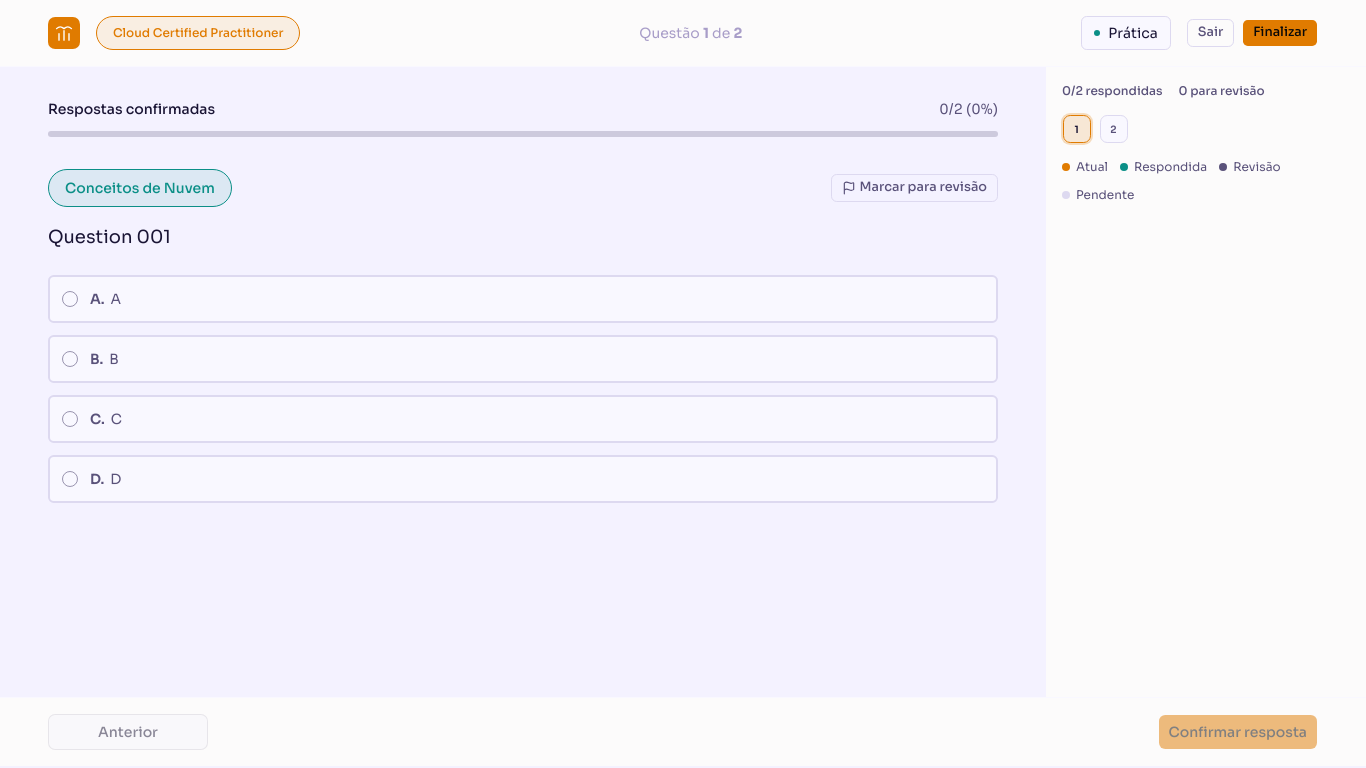
Scenario: QuizLayout › navega pelo mapa e marca questão para revisão
Expected: the element that starts with "respondidas" is shown, [1046, 67, 1365, 697]
Click the button named "Questão 2" at coordinates (1114, 129), box [1100, 115, 1128, 143]
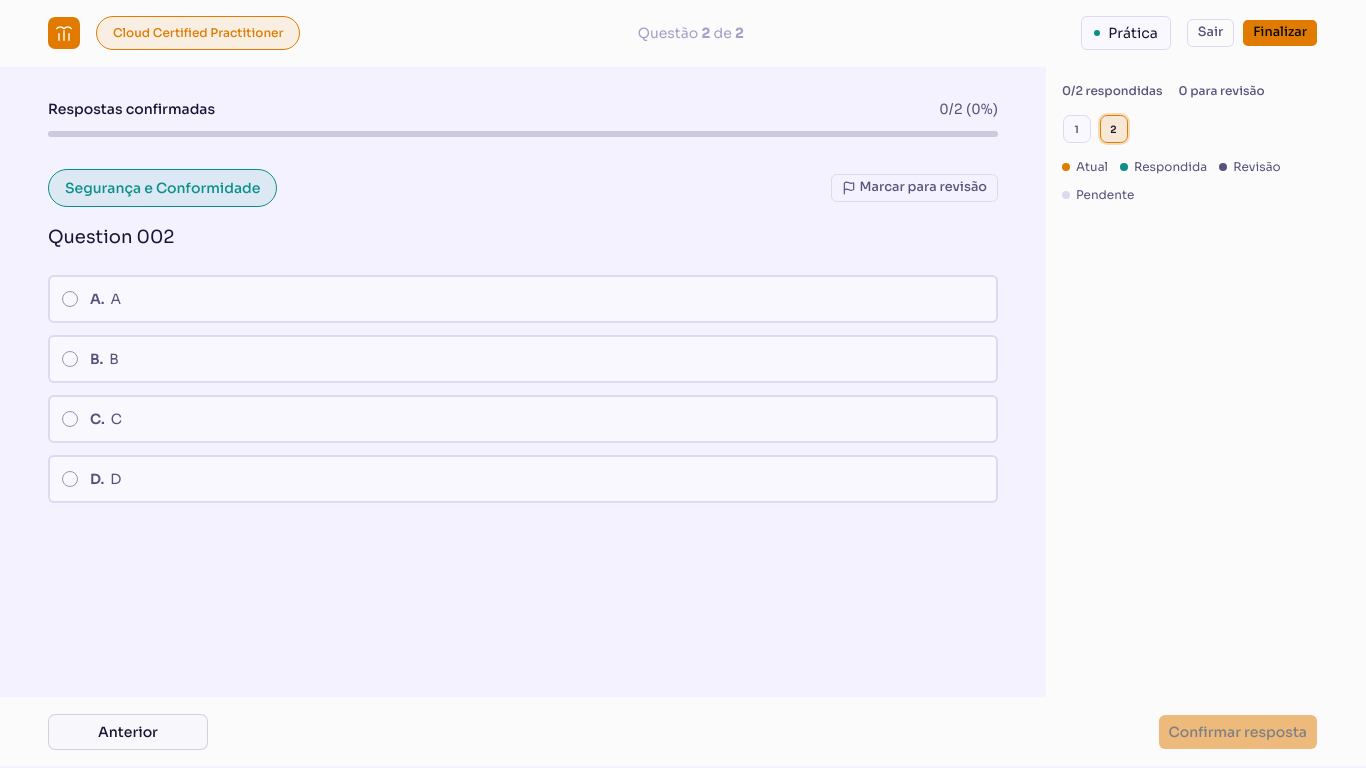
Click the button "Marcar para revisão" at coordinates (914, 188), box [831, 174, 998, 202]
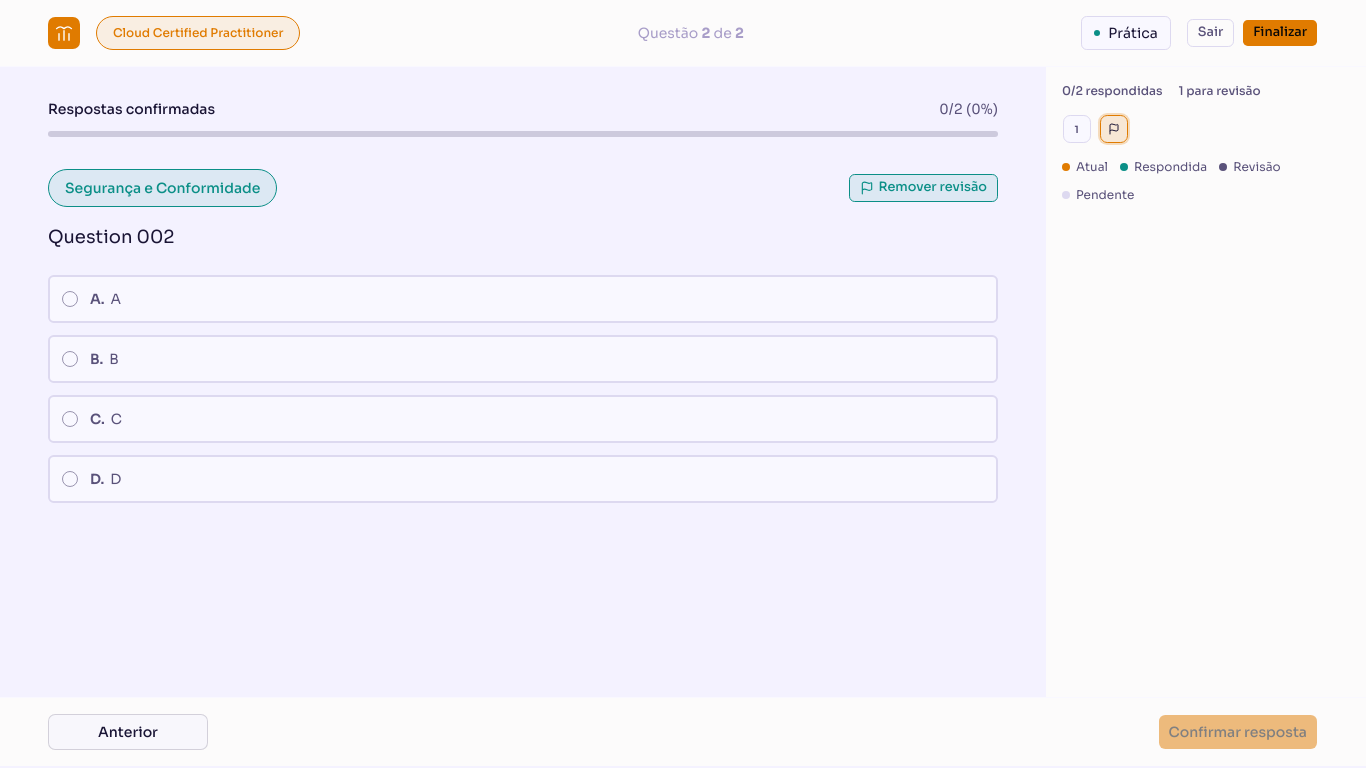
Expected: the button "Remover revisão" is shown, [850, 174, 998, 202]
